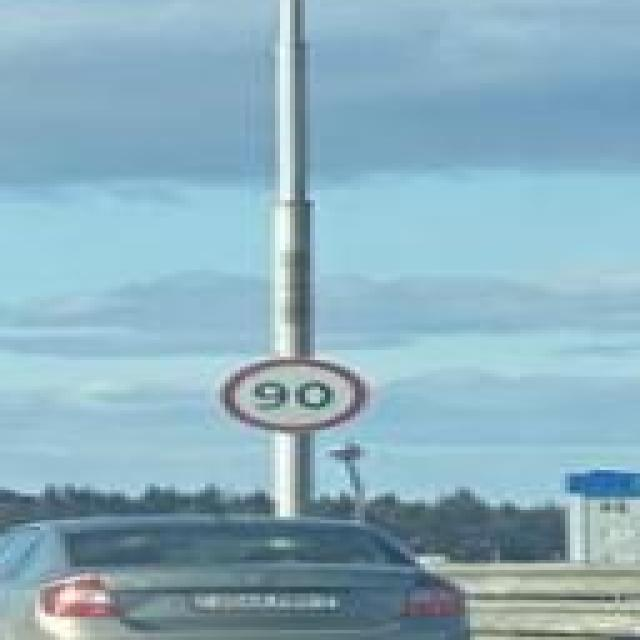Speed Limit -90-: (215, 355, 372, 437)
